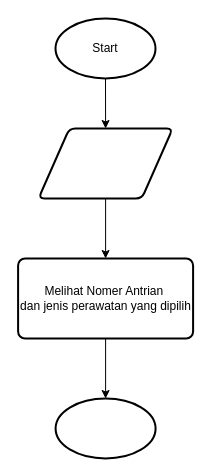
Some shapes in this 211 by 476 pixel diagram are drawn without their labels. The shapes that lost their labels are listed below. From the top down, each one's box as (x1, y1, x2, y2) in pixels, then its label:
(37, 127, 173, 199): Masuk ke halaman salon online
(54, 397, 156, 459): End
